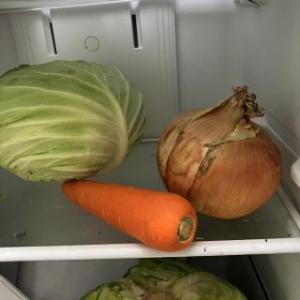cabbage: (1, 59, 148, 185), (72, 256, 252, 300)
carrot: (62, 178, 198, 254)
onion: (154, 84, 282, 221)
